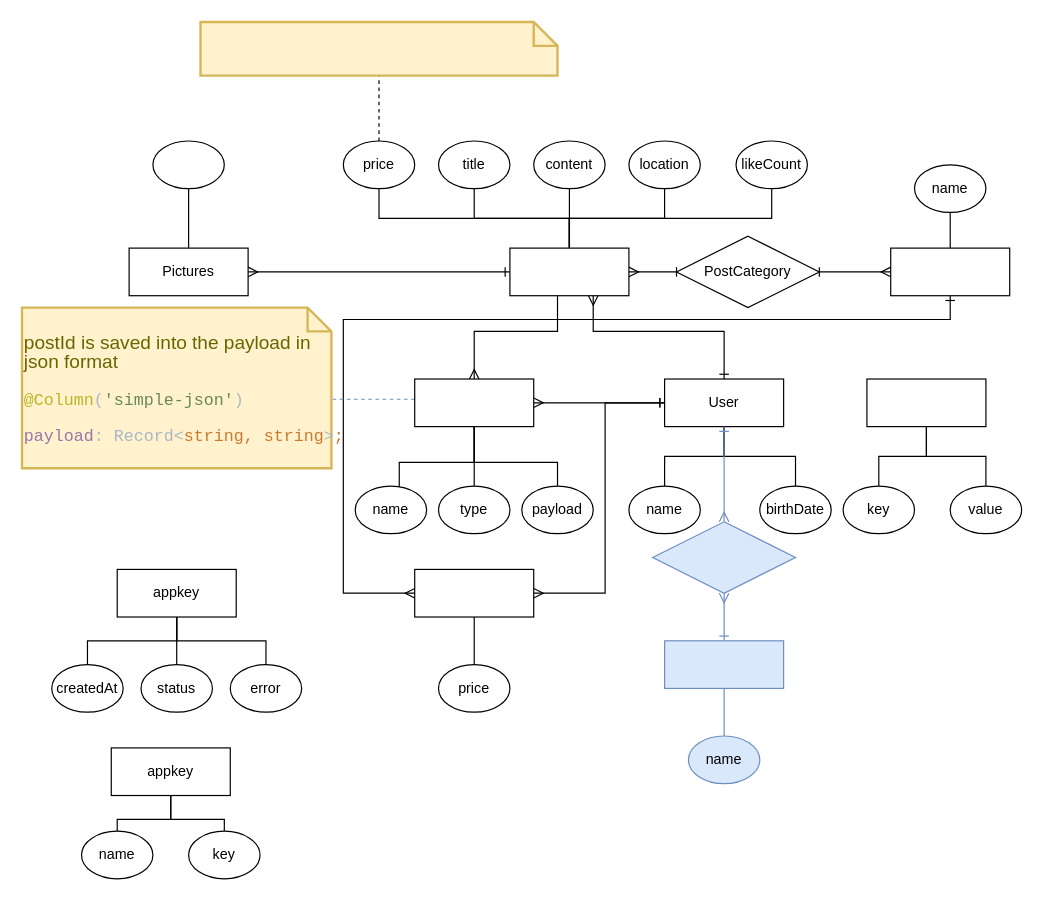
Some shapes in this 1042 by 900 pixel diagram are drawn without their labels. Here are the shapes that lost their labels. From the top down, the box of each, then its label:
(199, 20, 558, 76): price might have different currency
(152, 140, 224, 189): path
(509, 247, 629, 296): Post
(890, 247, 1010, 296): Category
(414, 378, 534, 427): Event
(866, 378, 986, 427): Configuration
(652, 521, 796, 593): UserRole
(414, 568, 534, 617): scheduledNotify
(663, 640, 784, 688): Role
